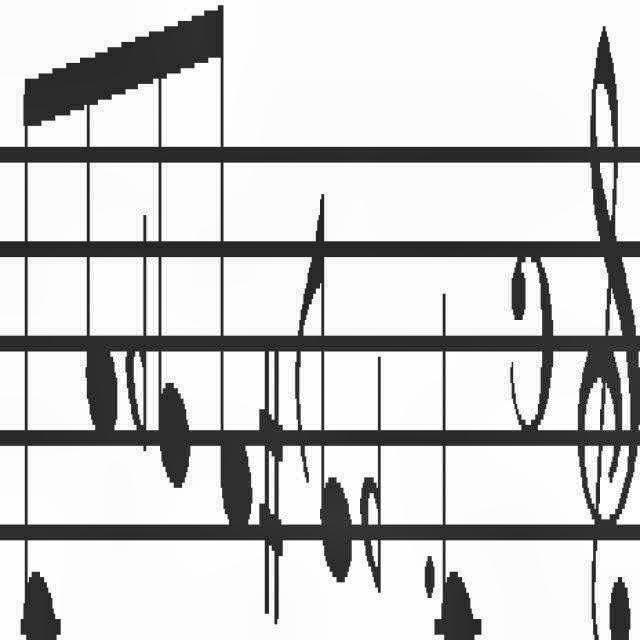Bass-clef: (575, 10, 640, 640), (639, 10, 640, 640)
Bemol: (358, 352, 382, 604), (124, 208, 148, 456)
Diez: (257, 344, 283, 626)
Eighth-note: (206, 0, 254, 536), (21, 56, 63, 640), (295, 189, 353, 587), (152, 14, 192, 490), (84, 44, 118, 436)
Quarter-note: (434, 278, 482, 640)
